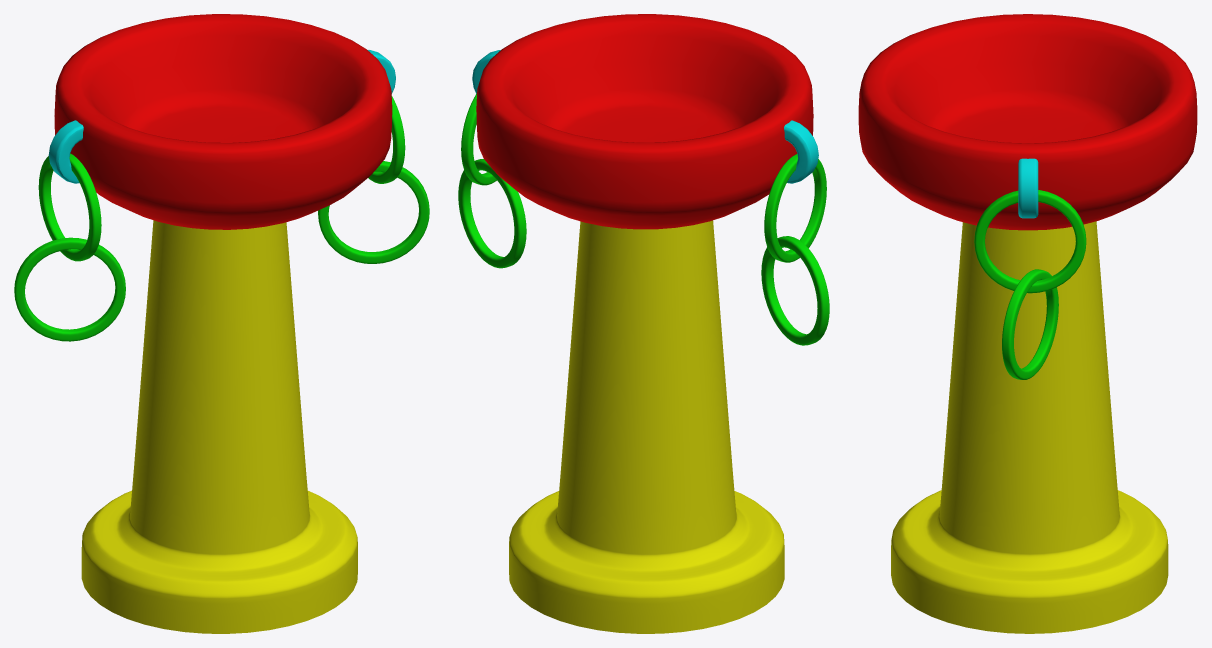
File: Brazier.fbx
3 renders of one model, left to right at view 1: azimuth 30°, elevation 25°; view 2: azimuth 150°, elevation 25°; view 3: azimuth 270°, elevation 25°, orthographic.
Parts seen in each view (by area): view 1: polySurface14; view 2: polySurface14; view 3: polySurface14.
Boxes of the visible parts, left/top/right/bottom form: polySurface14: left=14, top=14, right=429, bottom=633; polySurface14: left=458, top=14, right=829, bottom=633; polySurface14: left=858, top=14, right=1197, bottom=633.
Size of the model in its own units: 117 by 140 by 87.08.
